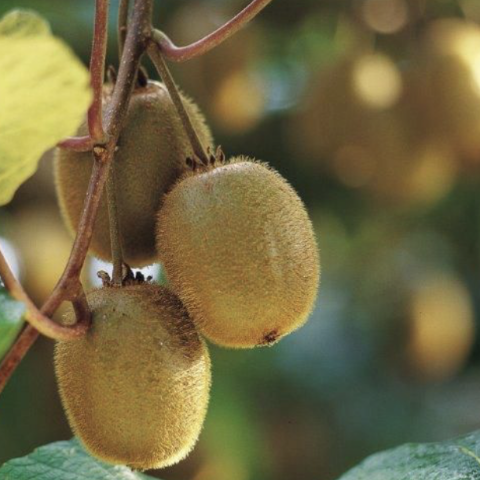kiwi: (41, 262, 237, 473), (56, 71, 229, 282), (151, 152, 333, 350)
